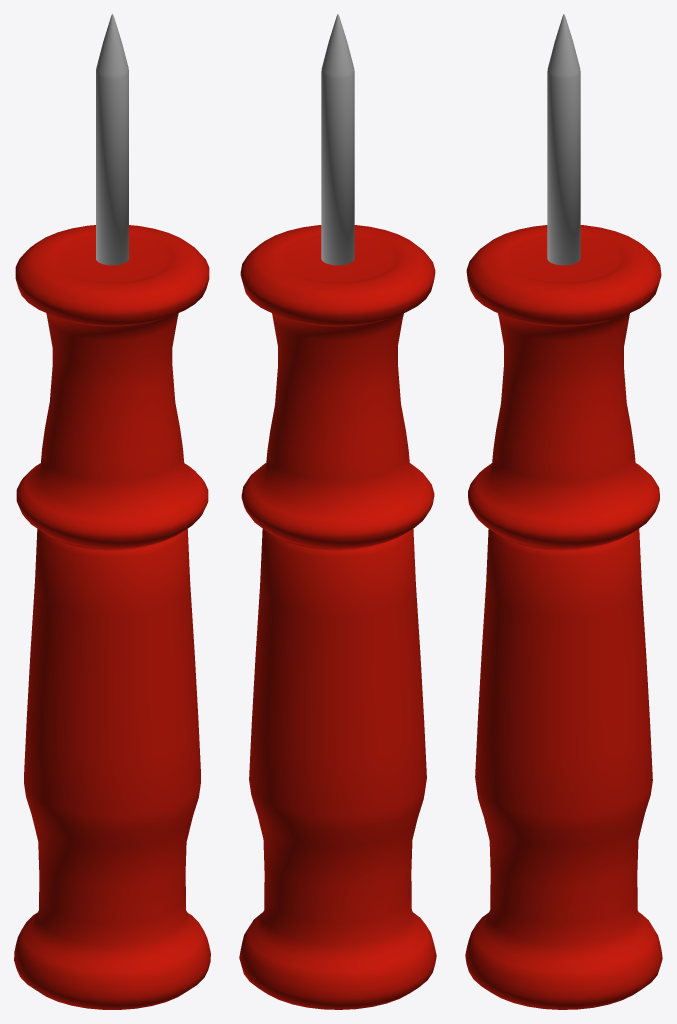
File: Naskali.fbx
3 views of the same model, side by side, from view 1: azimuth 30°, elevation 25°; view 2: azimuth 150°, elevation 25°; view 3: azimuth 270°, elevation 25° (orthographic).
Parts seen in each view (by area): view 1: Naskali, Piikki; view 2: Naskali, Piikki; view 3: Naskali, Piikki.
Part boxes in pixels (x1,y1,x2,y2): Naskali: [14, 225, 210, 1009]; Piikki: [96, 14, 128, 265]; Naskali: [239, 225, 436, 1009]; Piikki: [321, 14, 354, 265]; Naskali: [465, 225, 662, 1009]; Piikki: [547, 14, 580, 265].
Bounding box in the file's own units: 2.97 × 16.18 × 2.97.
